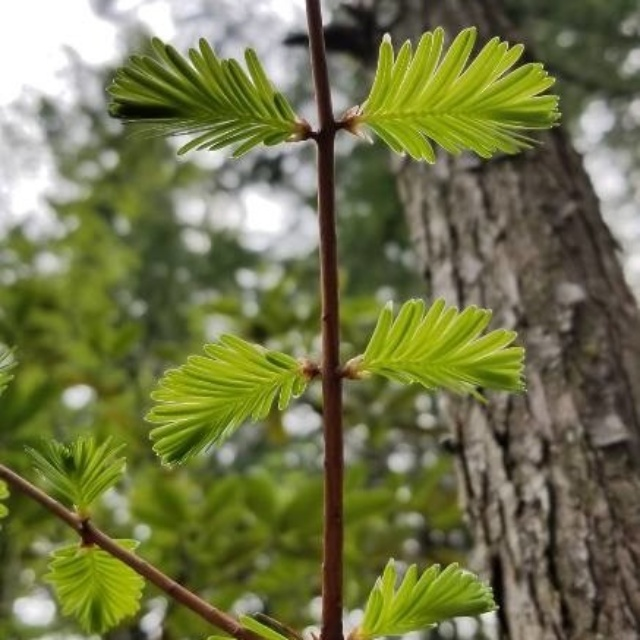obstacle: (91, 13, 542, 619)
